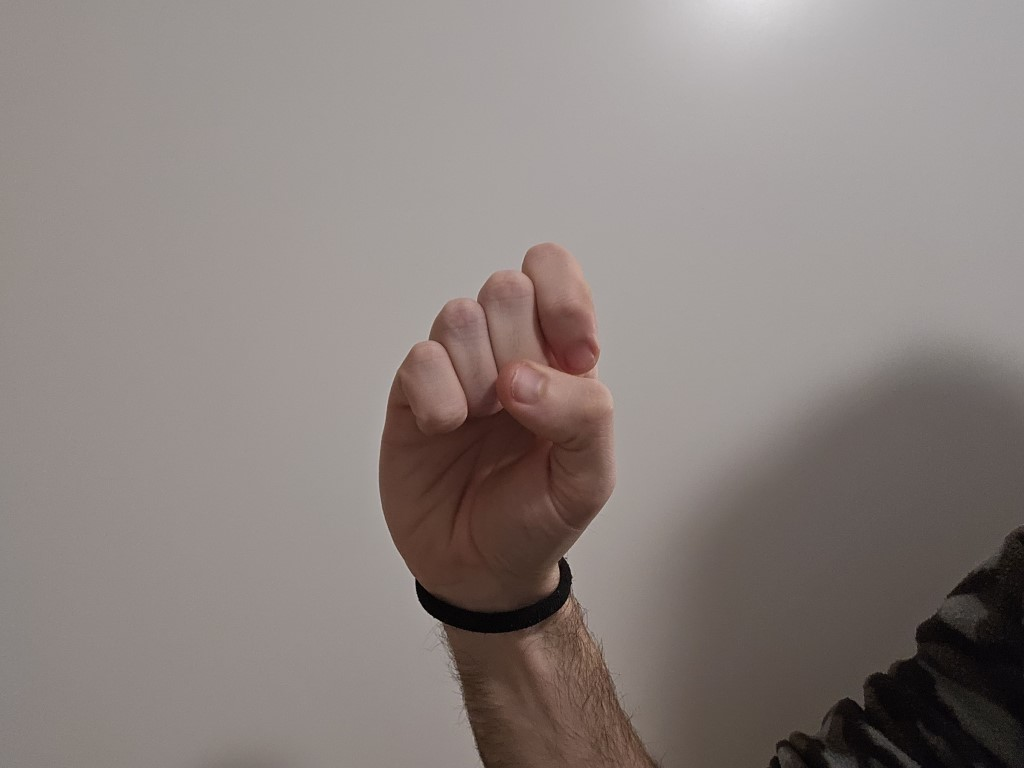s: (338, 205, 634, 613)
